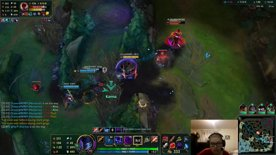bar: (74, 67, 103, 73), (162, 19, 187, 25), (118, 54, 142, 60), (58, 84, 81, 90)
